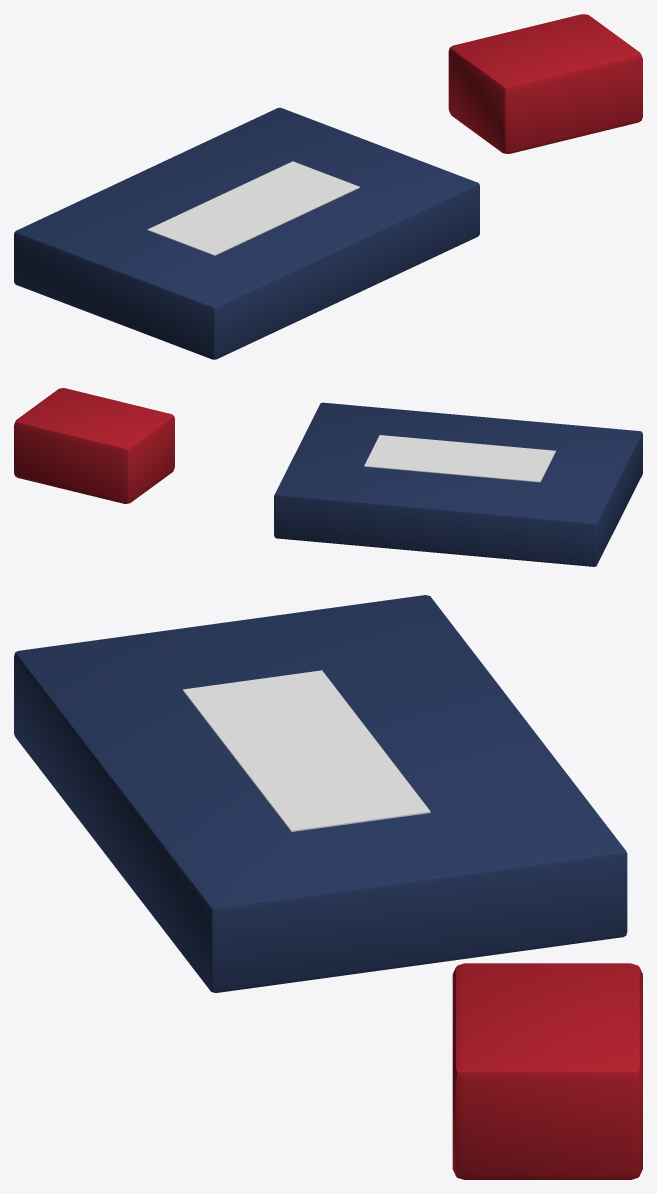
The model's file is recy1DiANmIfclOZZ.glb.
The picture shows the model from 3 angles, top to bottom: view 1: azimuth 30°, elevation 25°; view 2: azimuth 150°, elevation 25°; view 3: azimuth 270°, elevation 25°; orthographic projection. The views are drawn at different scales.
Visible parts, largest first — view 1: Objets_Chevet_1_Corps; view 2: Objets_Chevet_1_Corps; view 3: Objets_Chevet_1_Corps.
Part boxes in pixels (box(x1,y1,x2,y2)): Objets_Chevet_1_Corps: box(14, 14, 642, 359); Objets_Chevet_1_Corps: box(14, 388, 642, 566); Objets_Chevet_1_Corps: box(14, 595, 642, 1179).
Size of the model in its own units: 0.4072 by 0.043 by 0.2147.
